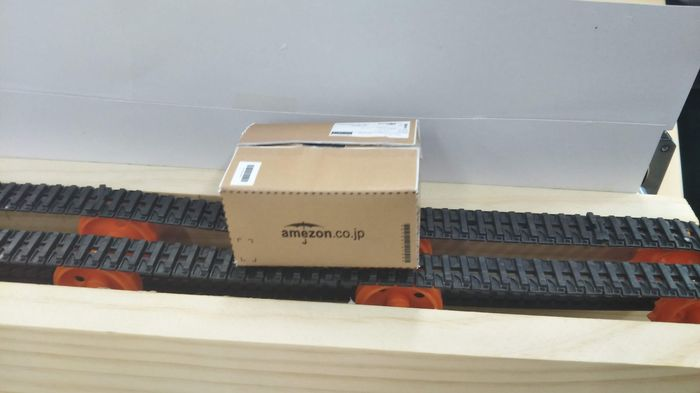box1: (213, 110, 431, 274)
